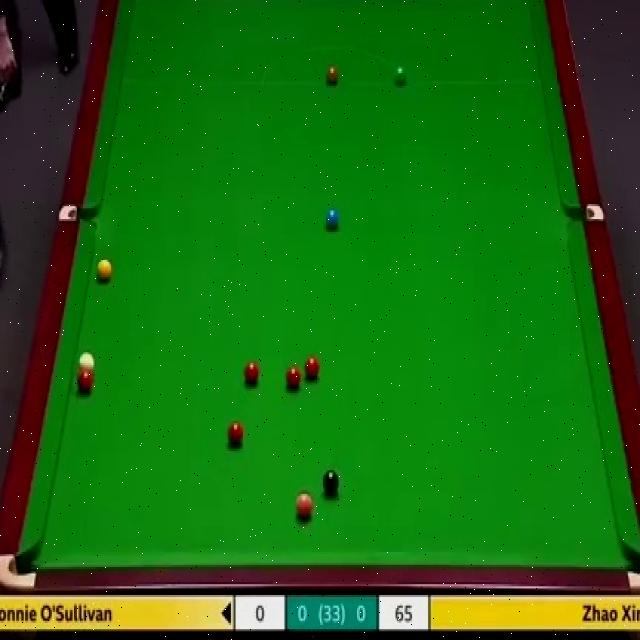black-ball: (323, 469, 340, 497)
blue-ball: (324, 206, 340, 231)
brown-ball: (325, 66, 339, 86)
green-ball: (394, 64, 407, 88)
pink-ball: (294, 490, 315, 520)
red-ball: (226, 420, 245, 448), (244, 359, 261, 389), (285, 365, 302, 394), (77, 369, 94, 397), (304, 355, 319, 382)
white-ball: (79, 348, 95, 374)
yellow-ball: (96, 258, 111, 283)
